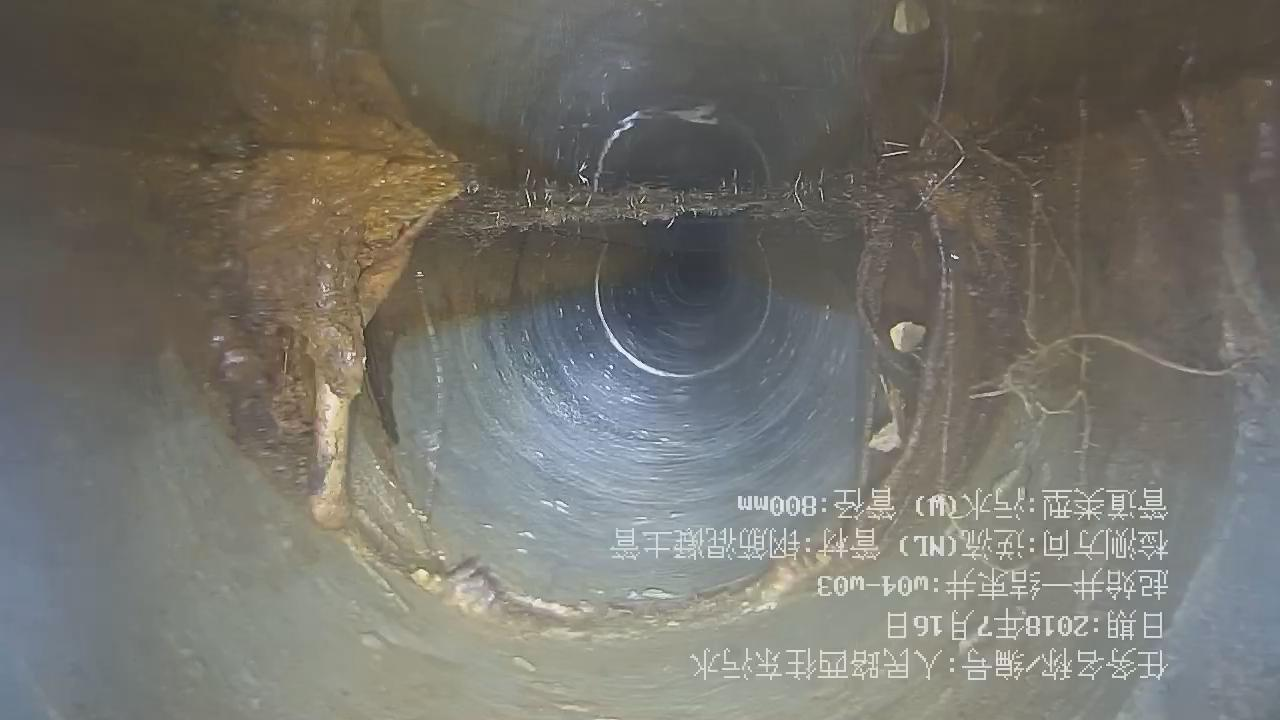CKTJ: (446, 149, 648, 541), (312, 370, 351, 528), (728, 344, 778, 454)
JKCL: (494, 333, 525, 573)
SG: (775, 54, 1044, 679)
